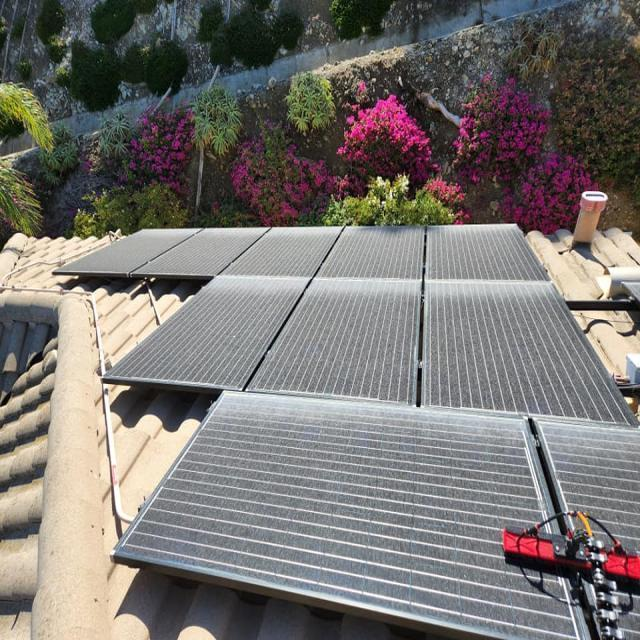Anomaly Solar Panel: (116, 390, 580, 638), (421, 280, 638, 426), (104, 274, 312, 392), (244, 278, 422, 407), (425, 223, 551, 281), (130, 227, 272, 276), (53, 228, 204, 273), (217, 226, 346, 278), (315, 226, 425, 279)
Surface Contaminant: (203, 391, 531, 468), (128, 222, 524, 239), (299, 279, 421, 305), (425, 280, 558, 302), (201, 272, 309, 295)
